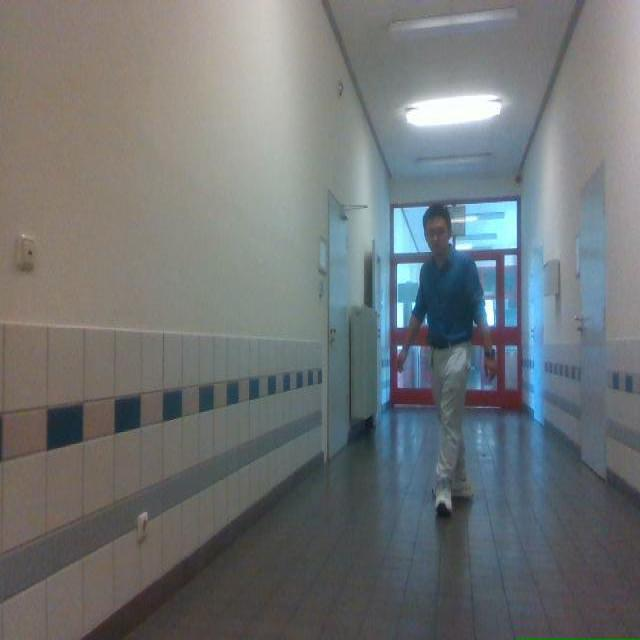humans: (397, 204, 496, 516)
